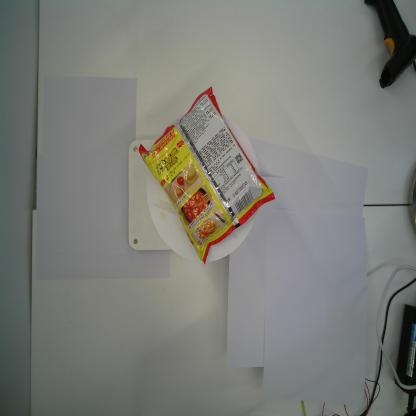Instant Noodles: (137, 84, 276, 268)
